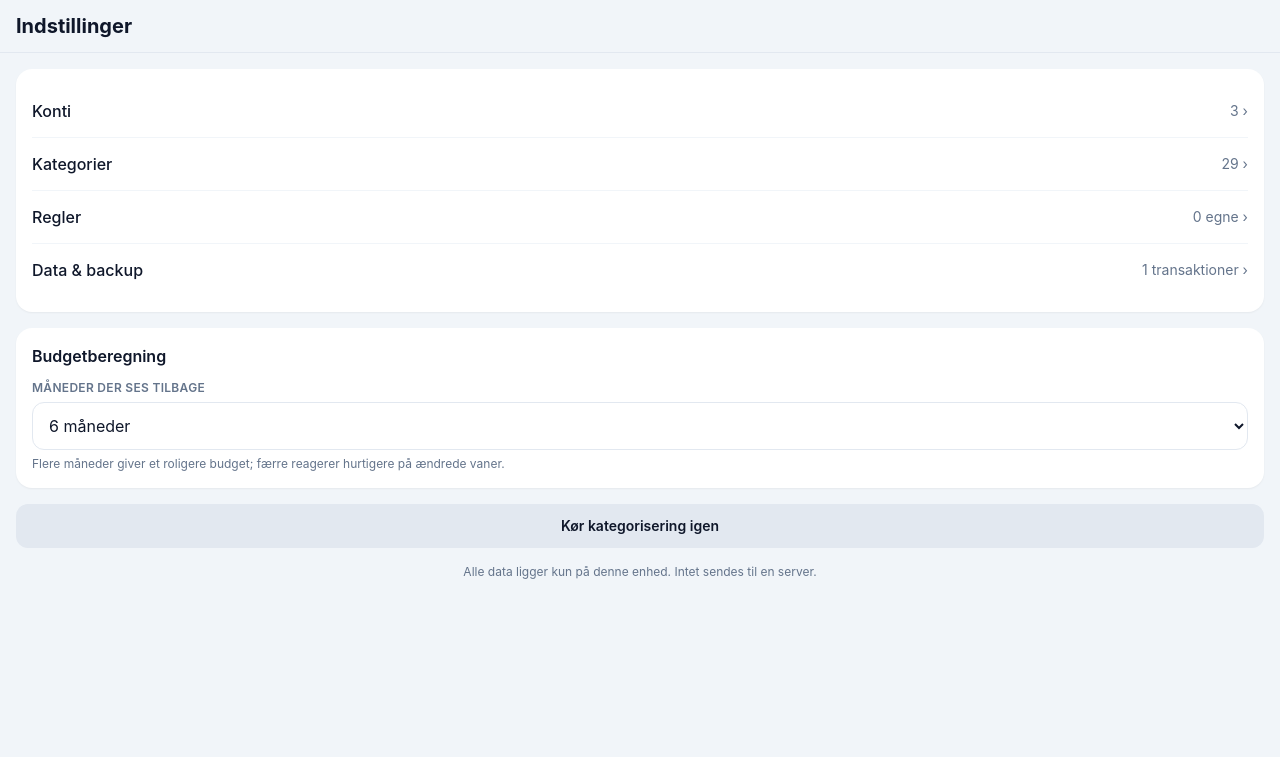
Scenario: saving up in a category › only offers the billing interval once rollover is on
Click the button "Kategorier 29 ›" at (72, 164), box [32,137,1248,190]
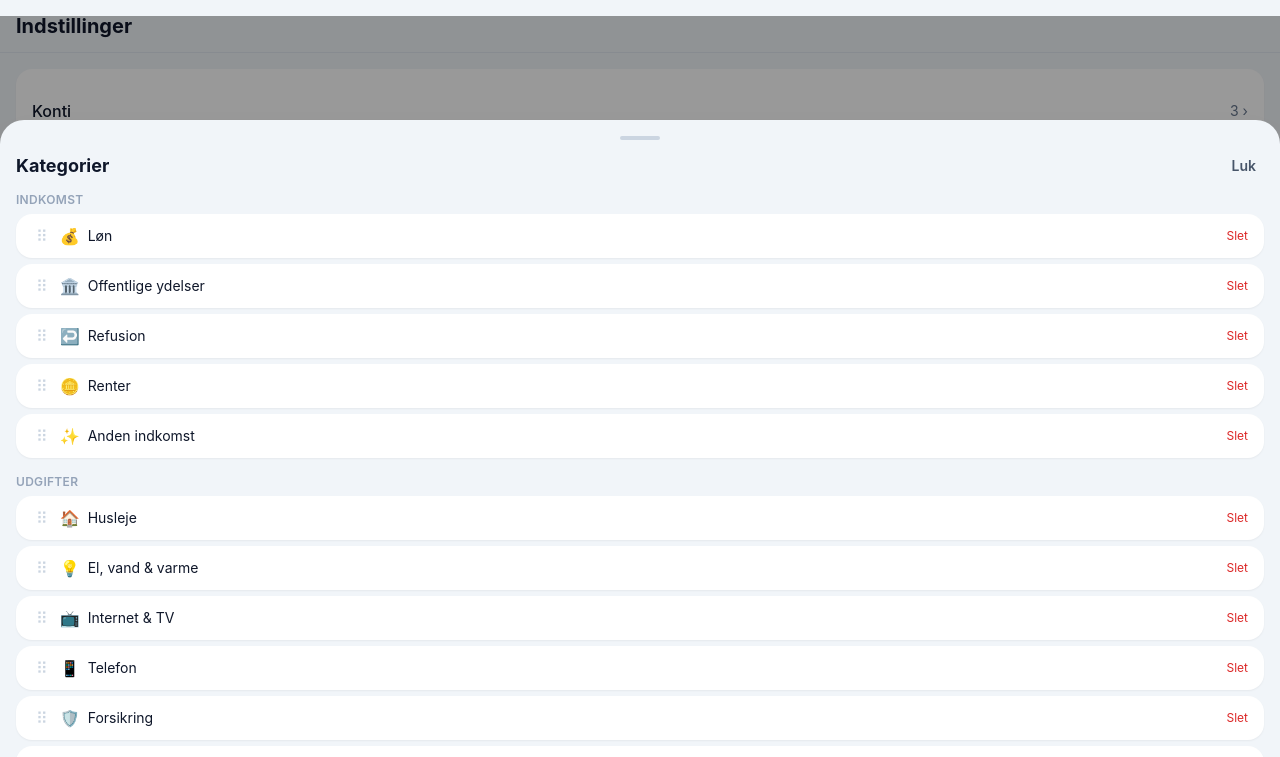
Click the button "🛡️ Forsikring" at (120, 718), box [60,706,1218,730]
(page scrolled)
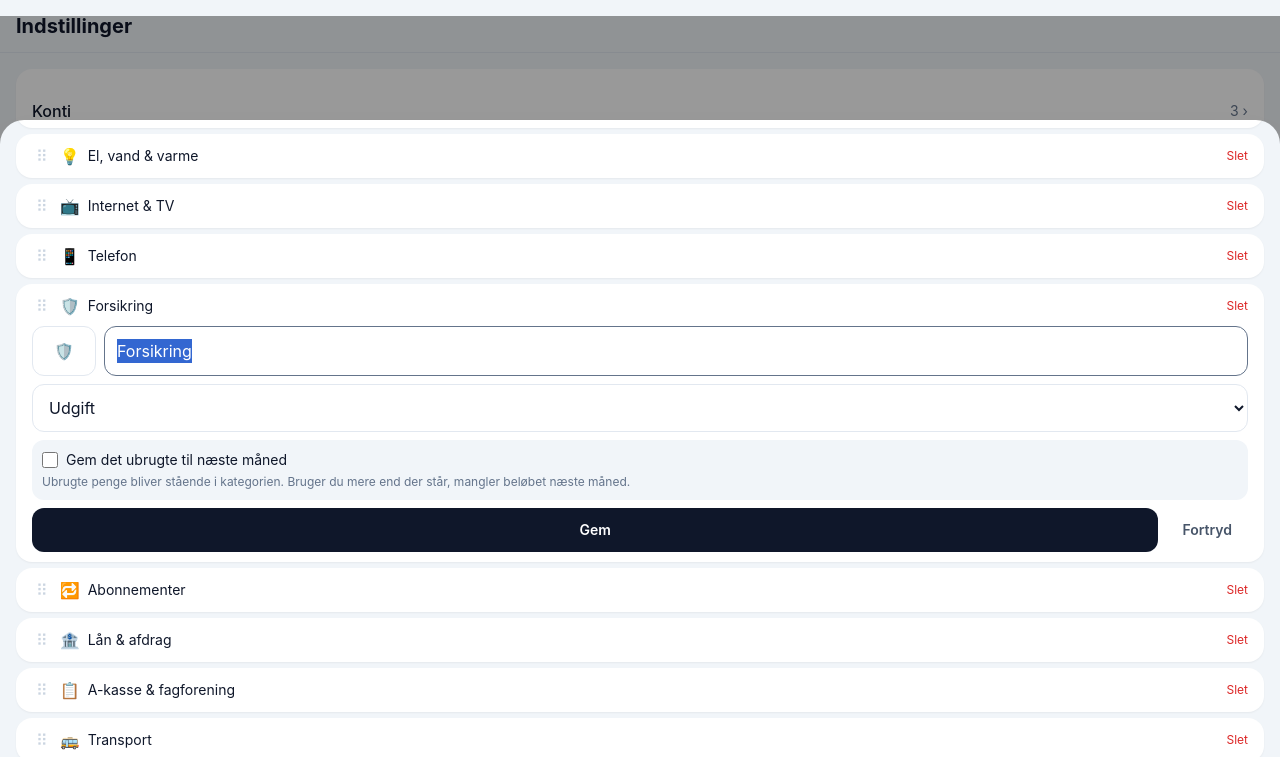
Expected: the field labelled "Regning kommer" is not shown
Click the checkbox labelled "Gem det ubrugte til næste måned" at (50, 460), box [42,452,58,468]
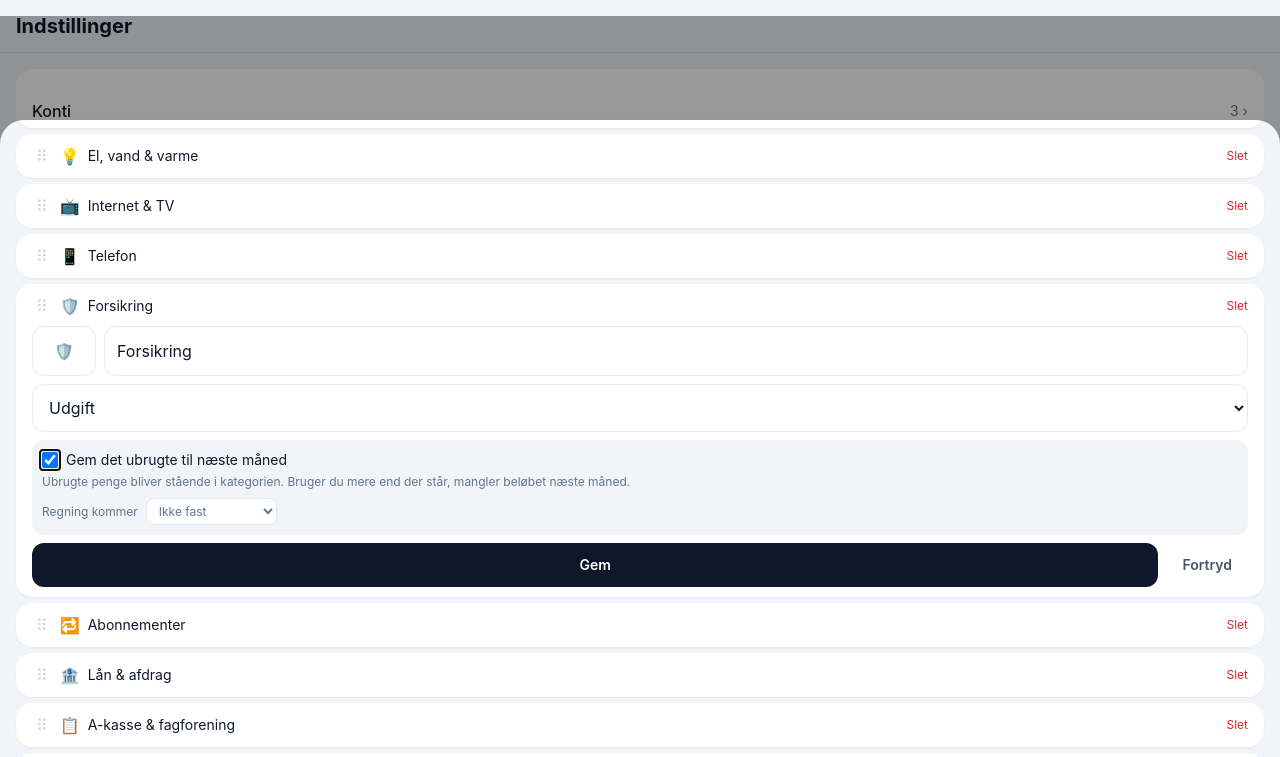
Expected: the dropdown labelled "Regning kommer" is shown, [146,498,277,525]
